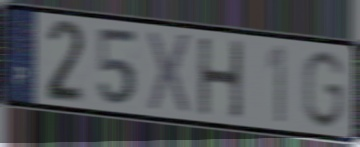1: (266, 43, 287, 127)
2: (45, 18, 86, 105)
5: (96, 29, 139, 108)
G: (300, 48, 348, 131)
H: (196, 36, 245, 122)
X: (146, 28, 193, 119)
